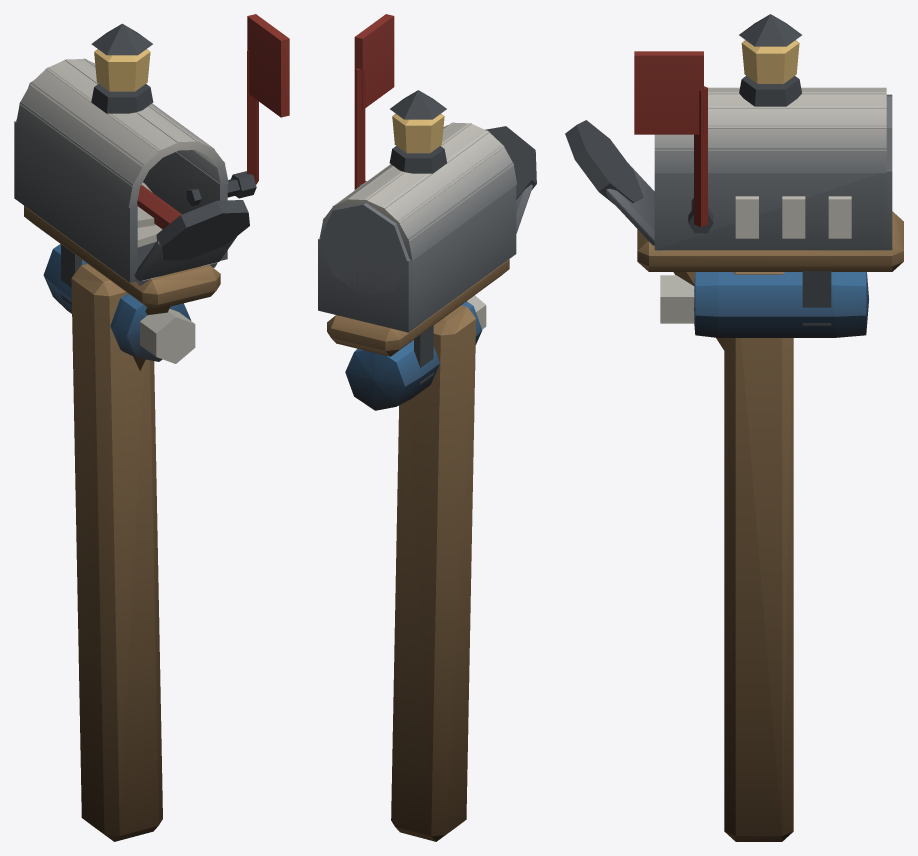
Rendered from mailbox.glb.
3 renders of one model, left to right at view 1: azimuth 30°, elevation 25°; view 2: azimuth 150°, elevation 25°; view 3: azimuth 270°, elevation 25°, orthographic. The views are drawn at different scales.
Parts seen in each view (by area): view 1: mailbox; view 2: mailbox; view 3: mailbox.
Part boxes in pixels (x1=…): mailbox: x1=14, y1=14, x2=289, y2=841; mailbox: x1=318, y1=14, x2=536, y2=841; mailbox: x1=565, y1=14, x2=903, y2=841.
Size of the model in its own units: 0.3125 by 1.58 by 0.5846.
